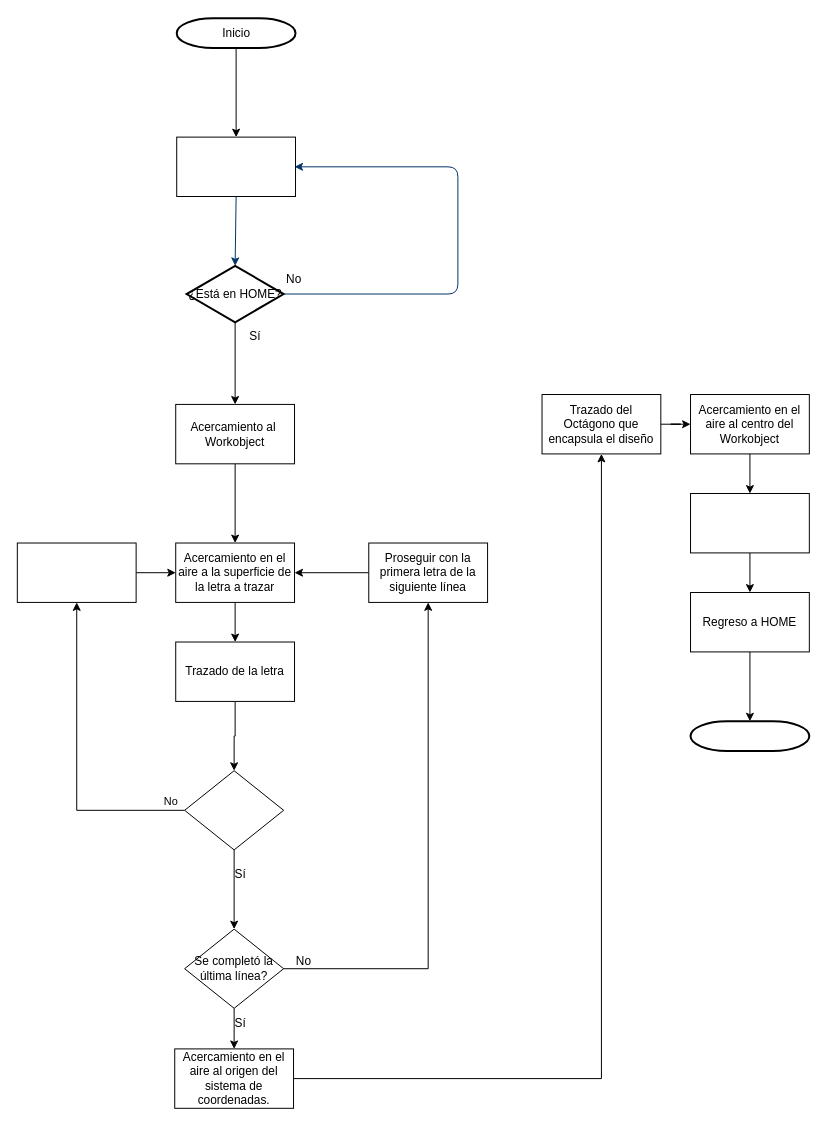
The diagram is 828 pixels wide and 1126 high, and some of its shapes have lost their labels. The shapes that lost their labels are listed below. From the top down, each one's centre as x and y in pixels, then its label:
At point (236, 166): "Ir a HOME".
At point (749, 523): "Trazado del diamante en el centro del Workobject".
At point (76, 572): "Proseguir con la siguiente letra de la línea".
At point (749, 735): "Fin".
At point (234, 810): "Se llegó al final de la línea?".
